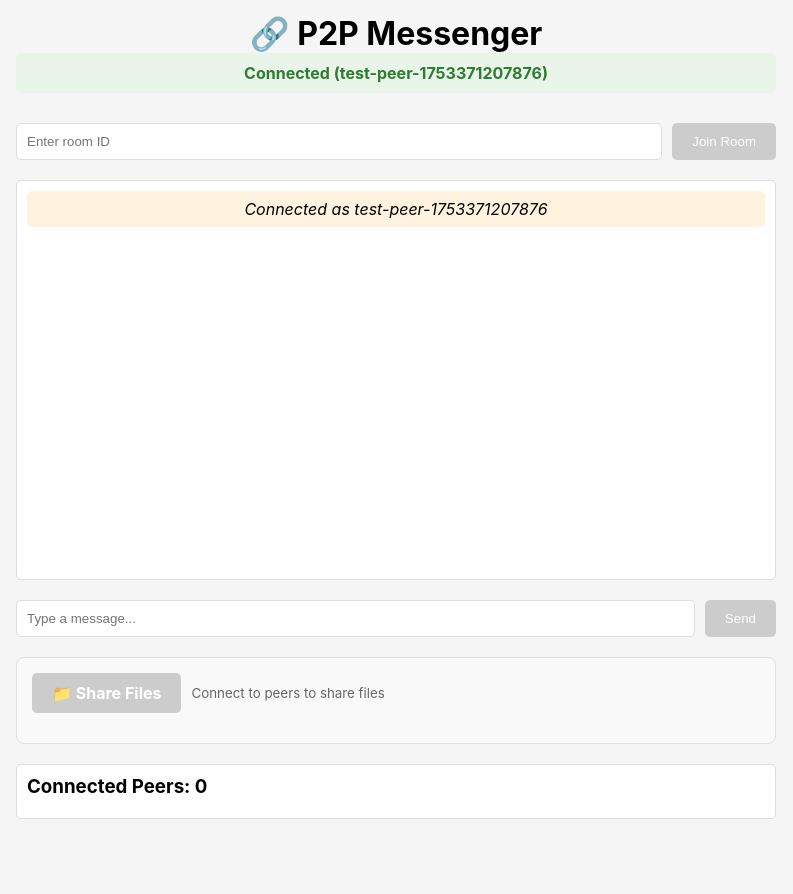
Test: App Component - Real Code Tests › should test real keyboard shortcuts
Expected: the text "Connected (test-peer-1753371207876)" is shown, [16,53,776,93]
Type "test-room" into the field with placeholder "Enter room ID" at (339,142), box [16,123,662,160]
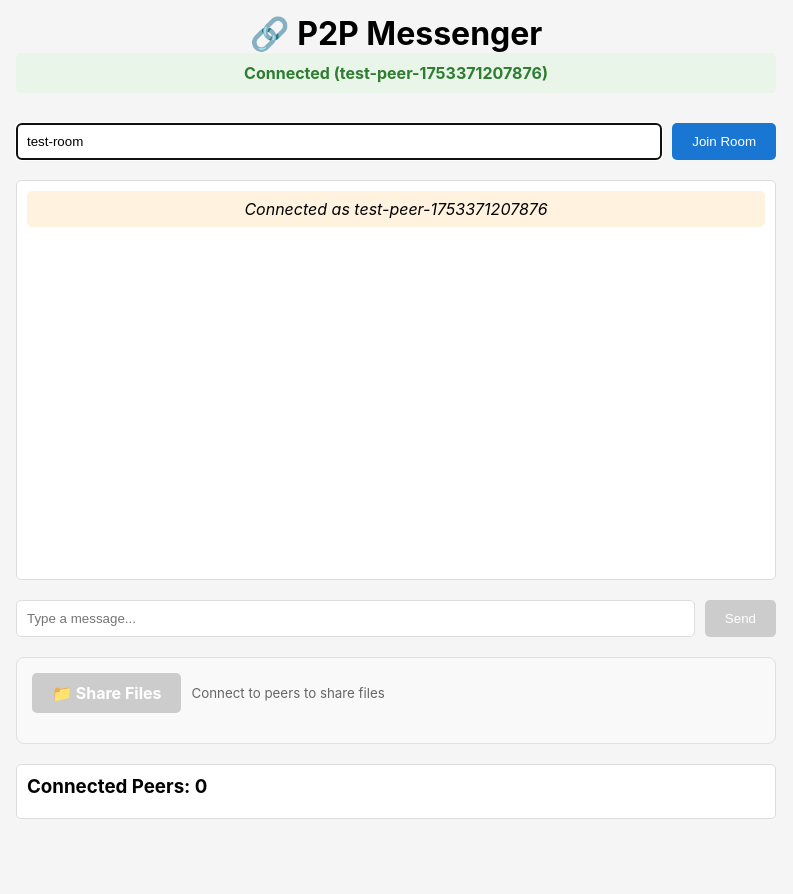
Press Enter
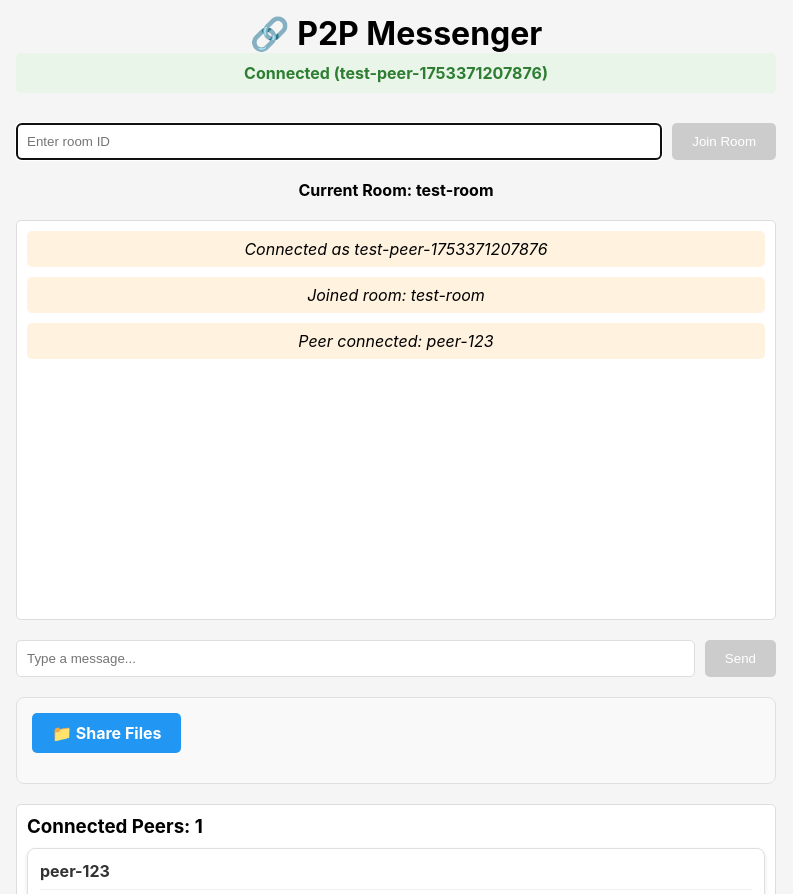
Now the heading "Connected Peers: 1" is shown, box [27,815,203,838]
Test Enter key for sending messages
Type "Message via Enter key" into the field with placeholder "Type a message..." at (355,658), box [16,640,695,677]
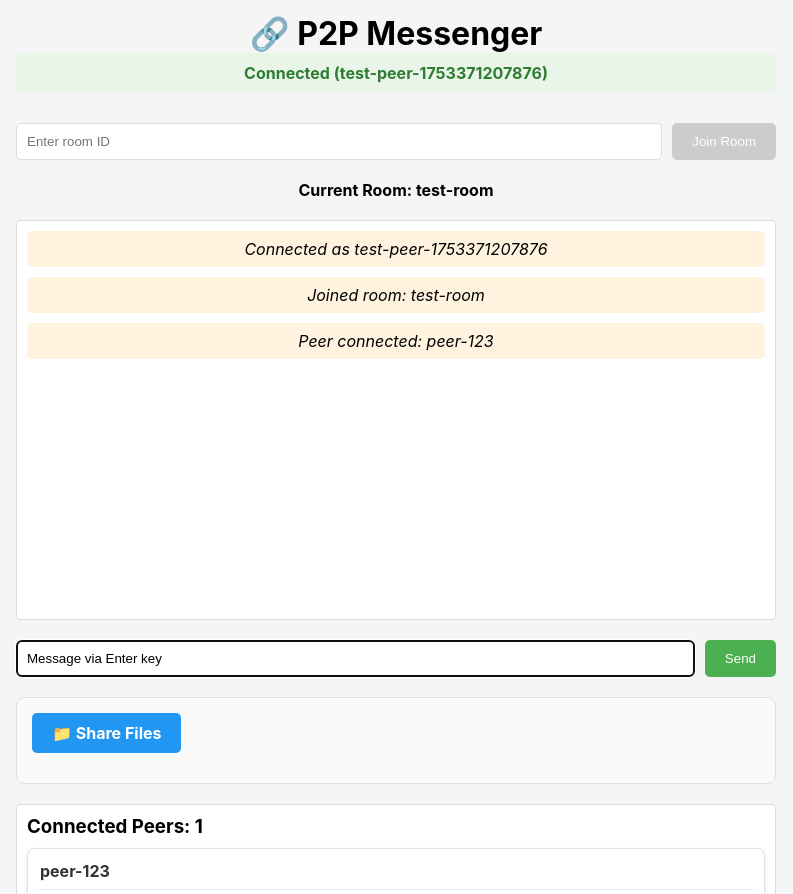
Press Enter
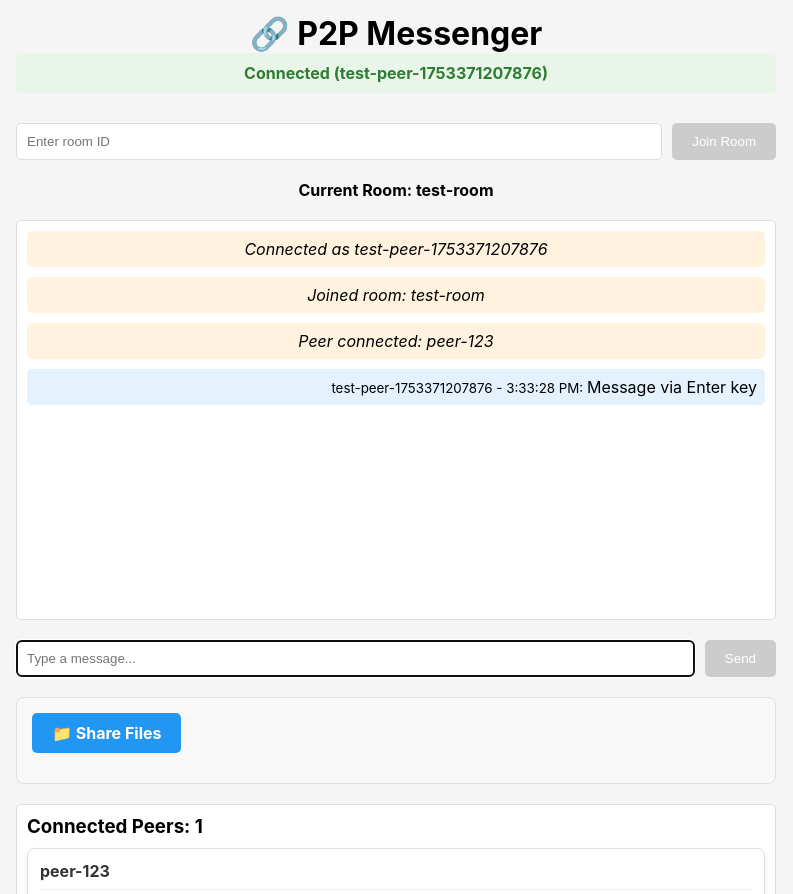
Now the text "Message via Enter key" is shown, box [587,377,757,397]
